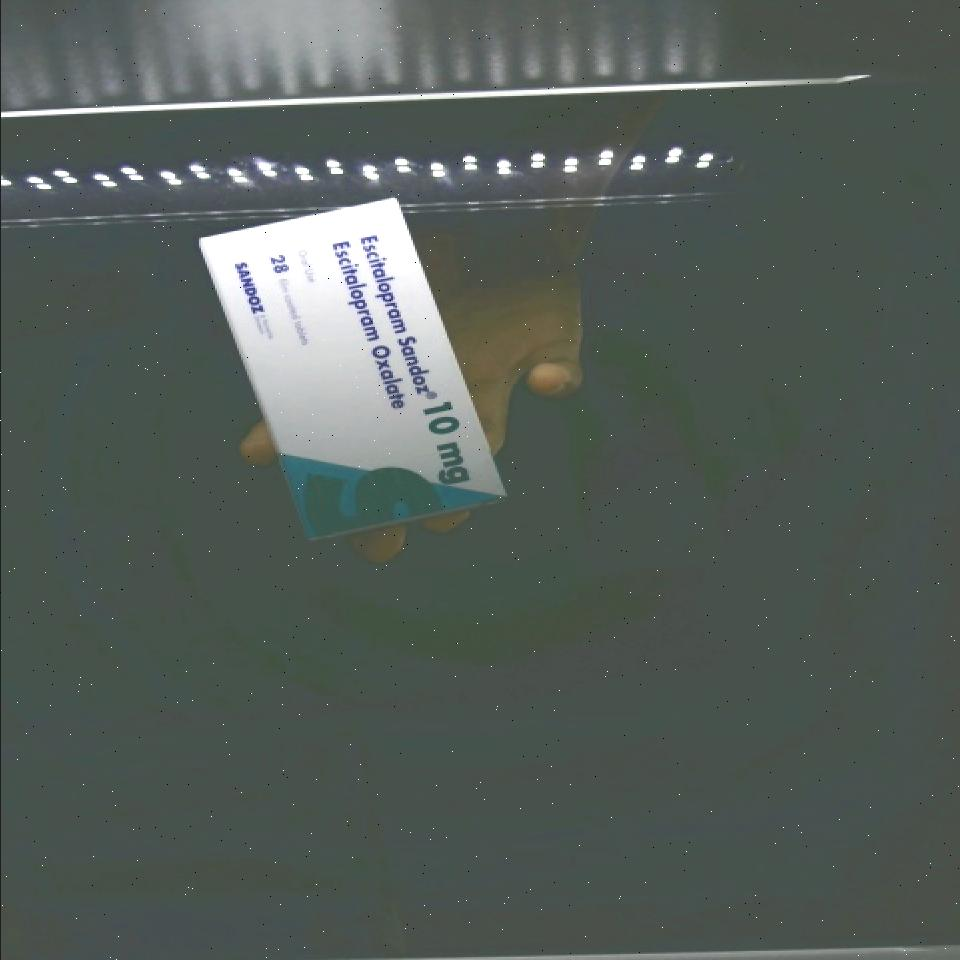medicine_box: (186, 166, 512, 572)
medicine_label_obb: (308, 201, 455, 428)
